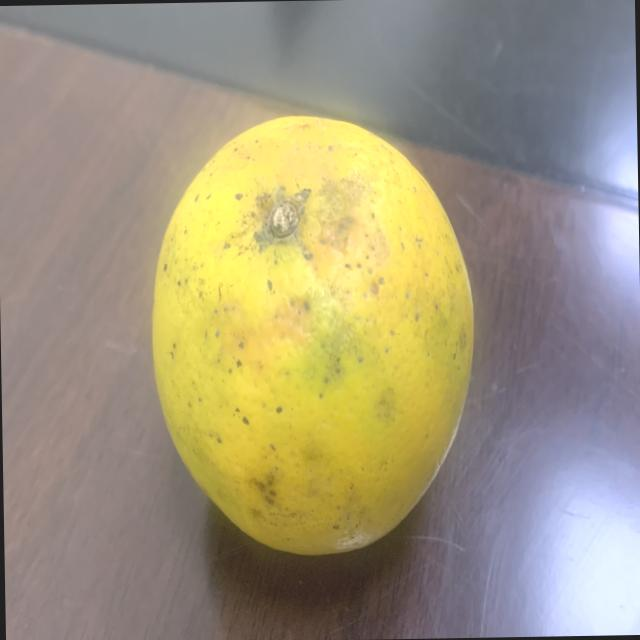Ripe orange: (132, 100, 494, 574)
